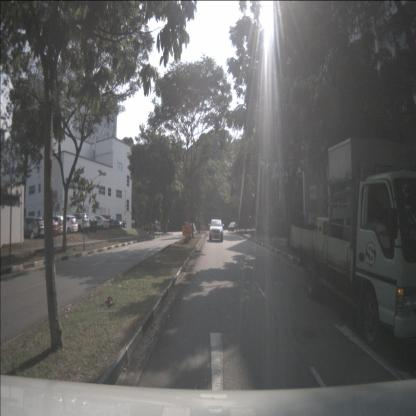vehicle-car: (21, 216, 46, 240), (35, 216, 59, 237), (42, 216, 67, 236), (55, 215, 78, 235), (68, 213, 90, 233), (209, 219, 223, 242), (89, 215, 110, 230), (78, 216, 98, 231), (96, 214, 113, 230), (84, 215, 102, 230), (102, 215, 119, 229), (106, 216, 123, 229), (183, 221, 191, 236), (188, 223, 197, 233), (228, 222, 237, 231)
vehicle-motorcycle: (122, 219, 126, 228)
vehicle-truck: (290, 137, 416, 344), (144, 220, 162, 232)
